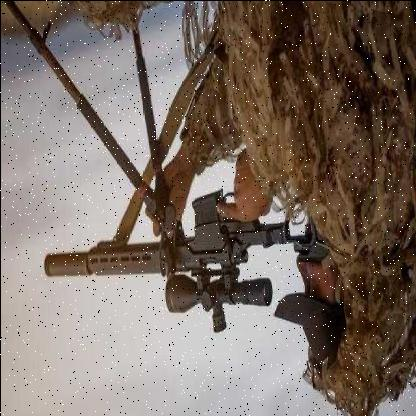rifle: (37, 167, 318, 331)
